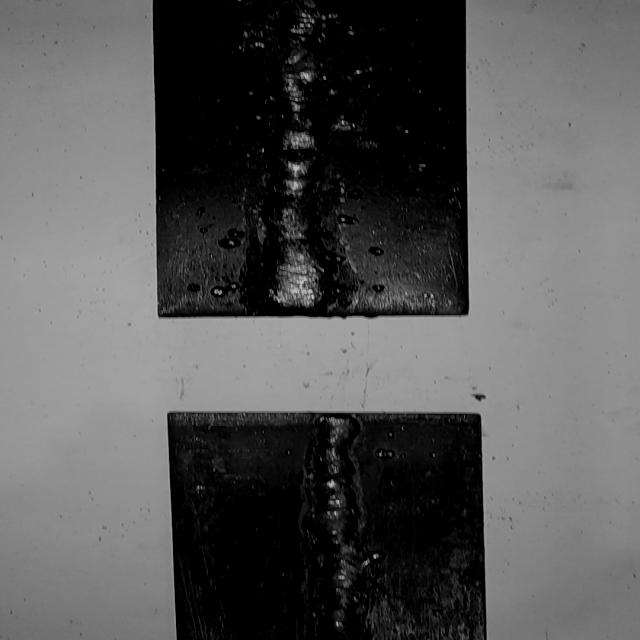Bad Weld: (265, 0, 338, 302)
Defect: (240, 0, 361, 63), (238, 79, 372, 134)
Good Weld: (307, 415, 366, 640)
